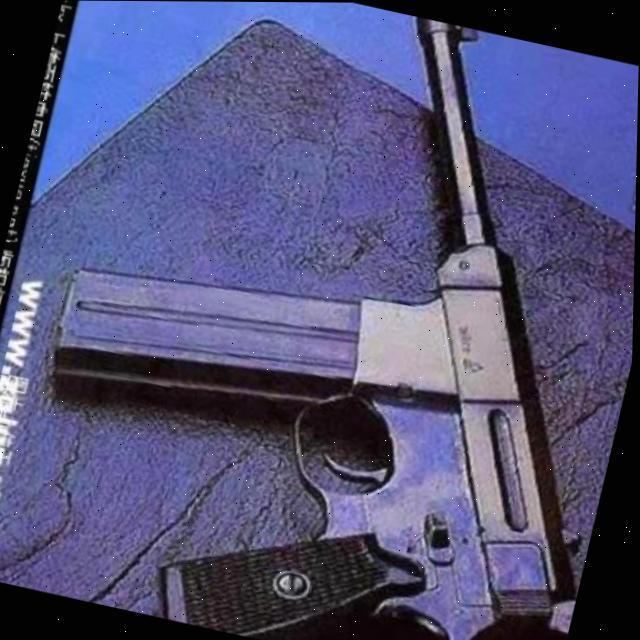gun: (162, 1, 640, 640)
